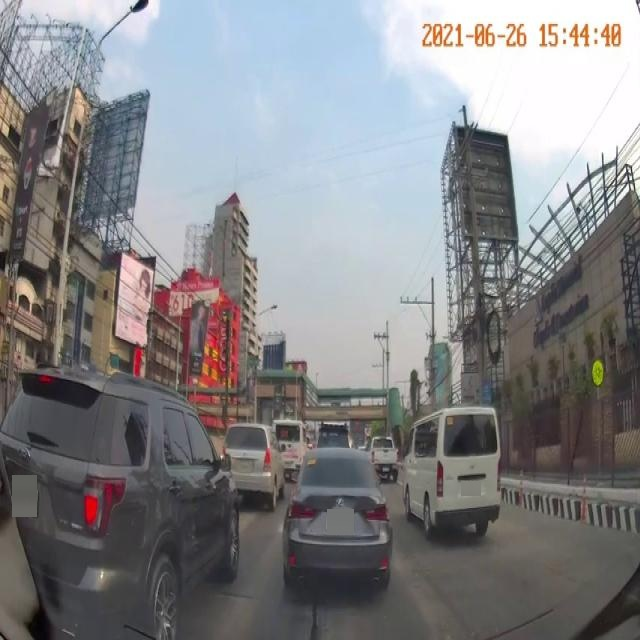car: (6, 374, 242, 627), (403, 414, 509, 542), (224, 413, 287, 511), (369, 435, 401, 480)
